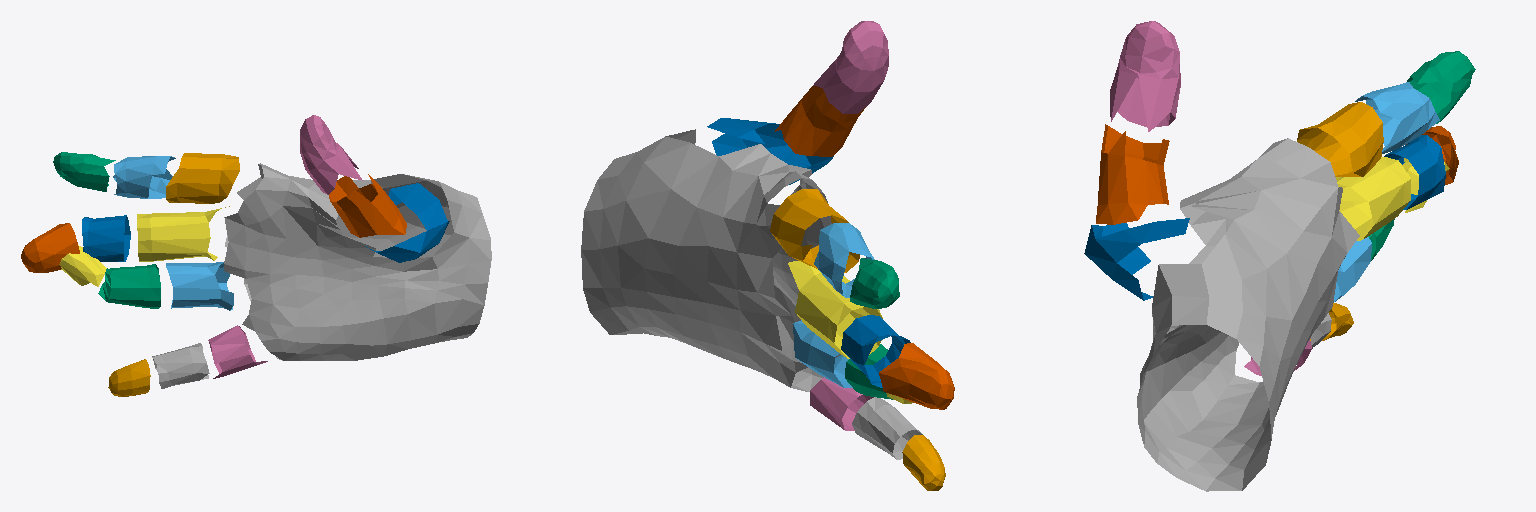
robot.urdf — mano_hand:
<robot name="mano_hand">
  <link name="root">
    <mass value="0.01"/>
    <inertial>
      <origin xyz="0 0 0" rpy="0 0 0"/>
      <mass value="0.01"/>
      <inertia ixx="1E-06" ixy="0" ixz="0" iyy="1E-06" iyz="0" izz="1E-06"/>
    </inertial>
  </link>
  <joint name="R_forearm_tx_link_joint" type="prismatic">
    <parent link="R_forearm_tx_link"/>
    <child link="R_forearm_ty_link"/>
    <axis xyz="1 0 0"/>
    <limit lower="-2.0" upper="2.0" effort="100" velocity="5"/>
  </joint>
  <link name="R_forearm_tx_link">
    <mass value="0.01"/>
  </link>
  <joint name="R_forearm_ty_link_joint" type="prismatic">
    <parent link="R_forearm_ty_link"/>
    <child link="R_forearm_tz_link"/>
    <axis xyz="0 1 0"/>
    <limit lower="-2.0" upper="2.0" effort="100" velocity="5"/>
  </joint>
  <link name="R_forearm_ty_link">
    <mass value="0.01"/>
  </link>
  <joint name="R_forearm_tz_link_joint" type="prismatic">
    <parent link="R_forearm_tz_link"/>
    <child link="R_forearm_roll_link"/>
    <axis xyz="0 0 1"/>
    <limit lower="-2.0" upper="2.0" effort="100" velocity="5"/>
  </joint>
  <link name="R_forearm_tz_link">
    <mass value="0.01"/>
  </link>
  <joint name="R_forearm_roll_link_joint" type="revolute">
    <parent link="R_forearm_roll_link"/>
    <child link="R_forearm_pitch_link"/>
    <axis xyz="0 0 1"/>
    <limit lower="-6.2" upper="6.2" effort="100" velocity="5"/>
  </joint>
  <link name="R_forearm_roll_link">
    <mass value="0.01"/>
  </link>
  <joint name="R_forearm_pitch_link_joint" type="revolute">
    <parent link="R_forearm_pitch_link"/>
    <child link="R_forearm_yaw_link"/>
    <axis xyz="1 0 0"/>
    <limit lower="-6.2" upper="6.2" effort="100" velocity="5"/>
  </joint>
  <link name="R_forearm_pitch_link">
    <mass value="0.01"/>
  </link>
  <joint name="R_forearm_yaw_link_joint" type="revolute">
    <parent link="R_forearm_yaw_link"/>
    <child link="hand"/>
    <axis xyz="0 -1 0"/>
    <limit lower="-6.2" upper="6.2" effort="100" velocity="5"/>
  </joint>
  <link name="R_forearm_yaw_link">
    <mass value="0.01"/>
  </link>
  <link name="hand">
    <inertial>
      <origin xyz="0 0 0" rpy="0 0 0"/>
      <mass value="0.01"/>
      <inertia ixx="1e-06" ixy="0" ixz="0" iyy="1e-06" iyz="0" izz="1e-06"/>
    </inertial>
    <visual>
      <origin xyz="0 0 0" rpy="0 0 0"/>
      <geometry>
        <mesh filename="meshes\hand.stl"/>
      </geometry>
    </visual>
    <collision>
      <origin xyz="0 0 0" rpy="0 0 0"/>
      <geometry>
        <mesh filename="meshes\hand.stl"/>
      </geometry>
    </collision>
  </link>
  <link name="link_joint_1">
    <inertial>
      <origin xyz="0 0 0" rpy="0 0 0"/>
      <mass value="0.01"/>
      <inertia ixx="1e-06" ixy="0" ixz="0" iyy="1e-06" iyz="0" izz="1e-06"/>
    </inertial>
    <visual>
      <origin xyz="0 0 0" rpy="0 0 0"/>
      <geometry>
        <mesh filename="meshes\link_joint_1.stl"/>
      </geometry>
    </visual>
    <collision>
      <origin xyz="0 0 0" rpy="0 0 0"/>
      <geometry>
        <mesh filename="meshes\link_joint_1.stl"/>
      </geometry>
    </collision>
  </link>
  <link name="link_joint_2">
    <inertial>
      <origin xyz="0 0 0" rpy="0 0 0"/>
      <mass value="0.01"/>
      <inertia ixx="1e-06" ixy="0" ixz="0" iyy="1e-06" iyz="0" izz="1e-06"/>
    </inertial>
    <visual>
      <origin xyz="0 0 0" rpy="0 0 0"/>
      <geometry>
        <mesh filename="meshes\link_joint_2.stl"/>
      </geometry>
    </visual>
    <collision>
      <origin xyz="0 0 0" rpy="0 0 0"/>
      <geometry>
        <mesh filename="meshes\link_joint_2.stl"/>
      </geometry>
    </collision>
  </link>
  <link name="link_joint_3">
    <inertial>
      <origin xyz="0 0 0" rpy="0 0 0"/>
      <mass value="0.01"/>
      <inertia ixx="1e-06" ixy="0" ixz="0" iyy="1e-06" iyz="0" izz="1e-06"/>
    </inertial>
    <visual>
      <origin xyz="0 0 0" rpy="0 0 0"/>
      <geometry>
        <mesh filename="meshes\link_joint_3.stl"/>
      </geometry>
    </visual>
    <collision>
      <origin xyz="0 0 0" rpy="0 0 0"/>
      <geometry>
        <mesh filename="meshes\link_joint_3.stl"/>
      </geometry>
    </collision>
  </link>
  <link name="link_joint_4">
    <inertial>
      <origin xyz="0 0 0" rpy="0 0 0"/>
      <mass value="0.01"/>
      <inertia ixx="1e-06" ixy="0" ixz="0" iyy="1e-06" iyz="0" izz="1e-06"/>
    </inertial>
    <visual>
      <origin xyz="0 0 0" rpy="0 0 0"/>
      <geometry>
        <mesh filename="meshes\link_joint_4.stl"/>
      </geometry>
    </visual>
    <collision>
      <origin xyz="0 0 0" rpy="0 0 0"/>
      <geometry>
        <mesh filename="meshes\link_joint_4.stl"/>
      </geometry>
    </collision>
  </link>
  <link name="link_joint_5">
    <inertial>
      <origin xyz="0 0 0" rpy="0 0 0"/>
      <mass value="0.01"/>
      <inertia ixx="1e-06" ixy="0" ixz="0" iyy="1e-06" iyz="0" izz="1e-06"/>
    </inertial>
    <visual>
      <origin xyz="0 0 0" rpy="0 0 0"/>
      <geometry>
        <mesh filename="meshes\link_joint_5.stl"/>
      </geometry>
    </visual>
    <collision>
      <origin xyz="0 0 0" rpy="0 0 0"/>
      <geometry>
        <mesh filename="meshes\link_joint_5.stl"/>
      </geometry>
    </collision>
  </link>
  <link name="link_joint_6">
    <inertial>
      <origin xyz="0 0 0" rpy="0 0 0"/>
      <mass value="0.01"/>
      <inertia ixx="1e-06" ixy="0" ixz="0" iyy="1e-06" iyz="0" izz="1e-06"/>
    </inertial>
    <visual>
      <origin xyz="0 0 0" rpy="0 0 0"/>
      <geometry>
        <mesh filename="meshes\link_joint_6.stl"/>
      </geometry>
    </visual>
    <collision>
      <origin xyz="0 0 0" rpy="0 0 0"/>
      <geometry>
        <mesh filename="meshes\link_joint_6.stl"/>
      </geometry>
    </collision>
  </link>
  <link name="link_joint_7">
    <inertial>
      <origin xyz="0 0 0" rpy="0 0 0"/>
      <mass value="0.01"/>
      <inertia ixx="1e-06" ixy="0" ixz="0" iyy="1e-06" iyz="0" izz="1e-06"/>
    </inertial>
    <visual>
      <origin xyz="0 0 0" rpy="0 0 0"/>
      <geometry>
        <mesh filename="meshes\link_joint_7.stl"/>
      </geometry>
    </visual>
    <collision>
      <origin xyz="0 0 0" rpy="0 0 0"/>
      <geometry>
        <mesh filename="meshes\link_joint_7.stl"/>
      </geometry>
    </collision>
  </link>
  <link name="link_joint_8">
    <inertial>
      <origin xyz="0 0 0" rpy="0 0 0"/>
      <mass value="0.01"/>
      <inertia ixx="1e-06" ixy="0" ixz="0" iyy="1e-06" iyz="0" izz="1e-06"/>
    </inertial>
    <visual>
      <origin xyz="0 0 0" rpy="0 0 0"/>
      <geometry>
        <mesh filename="meshes\link_joint_8.stl"/>
      </geometry>
    </visual>
    <collision>
      <origin xyz="0 0 0" rpy="0 0 0"/>
      <geometry>
        <mesh filename="meshes\link_joint_8.stl"/>
      </geometry>
    </collision>
  </link>
  <link name="link_joint_9">
    <inertial>
      <origin xyz="0 0 0" rpy="0 0 0"/>
      <mass value="0.01"/>
      <inertia ixx="1e-06" ixy="0" ixz="0" iyy="1e-06" iyz="0" izz="1e-06"/>
    </inertial>
    <visual>
      <origin xyz="0 0 0" rpy="0 0 0"/>
      <geometry>
        <mesh filename="meshes\link_joint_9.stl"/>
      </geometry>
    </visual>
    <collision>
      <origin xyz="0 0 0" rpy="0 0 0"/>
      <geometry>
        <mesh filename="meshes\link_joint_9.stl"/>
      </geometry>
    </collision>
  </link>
  <link name="link_joint_10">
    <inertial>
      <origin xyz="0 0 0" rpy="0 0 0"/>
      <mass value="0.01"/>
      <inertia ixx="1e-06" ixy="0" ixz="0" iyy="1e-06" iyz="0" izz="1e-06"/>
    </inertial>
    <visual>
      <origin xyz="0 0 0" rpy="0 0 0"/>
      <geometry>
        <mesh filename="meshes\link_joint_10.stl"/>
      </geometry>
    </visual>
    <collision>
      <origin xyz="0 0 0" rpy="0 0 0"/>
      <geometry>
        <mesh filename="meshes\link_joint_10.stl"/>
      </geometry>
    </collision>
  </link>
  <link name="link_joint_11">
    <inertial>
      <origin xyz="0 0 0" rpy="0 0 0"/>
      <mass value="0.01"/>
      <inertia ixx="1e-06" ixy="0" ixz="0" iyy="1e-06" iyz="0" izz="1e-06"/>
    </inertial>
    <visual>
      <origin xyz="0 0 0" rpy="0 0 0"/>
      <geometry>
        <mesh filename="meshes\link_joint_11.stl"/>
      </geometry>
    </visual>
    <collision>
      <origin xyz="0 0 0" rpy="0 0 0"/>
      <geometry>
        <mesh filename="meshes\link_joint_11.stl"/>
      </geometry>
    </collision>
  </link>
  <link name="link_joint_12">
    <inertial>
      <origin xyz="0 0 0" rpy="0 0 0"/>
      <mass value="0.01"/>
      <inertia ixx="1e-06" ixy="0" ixz="0" iyy="1e-06" iyz="0" izz="1e-06"/>
    </inertial>
    <visual>
      <origin xyz="0 0 0" rpy="0 0 0"/>
      <geometry>
        <mesh filename="meshes\link_joint_12.stl"/>
      </geometry>
    </visual>
    <collision>
      <origin xyz="0 0 0" rpy="0 0 0"/>
      <geometry>
        <mesh filename="meshes\link_joint_12.stl"/>
      </geometry>
    </collision>
  </link>
  <link name="link_joint_13">
    <inertial>
      <origin xyz="0 0 0" rpy="0 0 0"/>
      <mass value="0.01"/>
      <inertia ixx="1e-06" ixy="0" ixz="0" iyy="1e-06" iyz="0" izz="1e-06"/>
    </inertial>
    <visual>
      <origin xyz="0 0 0" rpy="0 0 0"/>
      <geometry>
        <mesh filename="meshes\link_joint_13.stl"/>
      </geometry>
    </visual>
    <collision>
      <origin xyz="0 0 0" rpy="0 0 0"/>
      <geometry>
        <mesh filename="meshes\link_joint_13.stl"/>
      </geometry>
    </collision>
  </link>
  <link name="link_joint_14">
    <inertial>
      <origin xyz="0 0 0" rpy="0 0 0"/>
      <mass value="0.01"/>
      <inertia ixx="1e-06" ixy="0" ixz="0" iyy="1e-06" iyz="0" izz="1e-06"/>
    </inertial>
    <visual>
      <origin xyz="0 0 0" rpy="0 0 0"/>
      <geometry>
        <mesh filename="meshes\link_joint_14.stl"/>
      </geometry>
    </visual>
    <collision>
      <origin xyz="0 0 0" rpy="0 0 0"/>
      <geometry>
        <mesh filename="meshes\link_joint_14.stl"/>
      </geometry>
    </collision>
  </link>
  <link name="link_joint_15">
    <inertial>
      <origin xyz="0 0 0" rpy="0 0 0"/>
      <mass value="0.01"/>
      <inertia ixx="1e-06" ixy="0" ixz="0" iyy="1e-06" iyz="0" izz="1e-06"/>
    </inertial>
    <visual>
      <origin xyz="0 0 0" rpy="0 0 0"/>
      <geometry>
        <mesh filename="meshes\link_joint_15.stl"/>
      </geometry>
    </visual>
    <collision>
      <origin xyz="0 0 0" rpy="0 0 0"/>
      <geometry>
        <mesh filename="meshes\link_joint_15.stl"/>
      </geometry>
    </collision>
  </link>
  <joint name="joint_hand_to_link_joint_0" type="fixed">
    <parent link="root"/>
    <child link="R_forearm_tx_link"/>
    <origin xyz="0 0 0" rpy="0 0 0"/>
    <axis xyz="0 0 1"/>
  </joint>
  <joint name="joint_hand_to_link_joint_1" type="revolute">
    <parent link="hand"/>
    <child link="link_joint_1"/>
    <origin xyz="0 0 0" rpy="0 0 0"/>
    <axis xyz="0 0 1"/>
    <limit lower="-0.3" upper="0.3" effort="50" velocity="0.1"/>
  </joint>
  <joint name="joint_hand_to_link_joint_2" type="revolute">
    <parent link="hand"/>
    <child link="link_joint_2"/>
    <origin xyz="0 0 0" rpy="0 0 0"/>
    <axis xyz="0 0 1"/>
    <limit lower="-0.3" upper="0.3" effort="50" velocity="0.1"/>
  </joint>
  <joint name="joint_hand_to_link_joint_3" type="revolute">
    <parent link="hand"/>
    <child link="link_joint_3"/>
    <origin xyz="0 0 0" rpy="0 0 0"/>
    <axis xyz="0 0 1"/>
    <limit lower="-0.3" upper="0.3" effort="50" velocity="0.1"/>
  </joint>
  <joint name="joint_hand_to_link_joint_4" type="revolute">
    <parent link="hand"/>
    <child link="link_joint_4"/>
    <origin xyz="0 0 0" rpy="0 0 0"/>
    <axis xyz="0 0 1"/>
    <limit lower="-0.3" upper="0.3" effort="50" velocity="0.1"/>
  </joint>
  <joint name="joint_hand_to_link_joint_5" type="revolute">
    <parent link="hand"/>
    <child link="link_joint_5"/>
    <origin xyz="0 0 0" rpy="0 0 0"/>
    <axis xyz="0 0 1"/>
    <limit lower="-0.3" upper="0.3" effort="50" velocity="0.1"/>
  </joint>
  <joint name="joint_hand_to_link_joint_6" type="revolute">
    <parent link="hand"/>
    <child link="link_joint_6"/>
    <origin xyz="0 0 0" rpy="0 0 0"/>
    <axis xyz="0 0 1"/>
    <limit lower="-0.3" upper="0.3" effort="50" velocity="0.1"/>
  </joint>
  <joint name="joint_hand_to_link_joint_7" type="revolute">
    <parent link="hand"/>
    <child link="link_joint_7"/>
    <origin xyz="0 0 0" rpy="0 0 0"/>
    <axis xyz="0 0 1"/>
    <limit lower="-0.3" upper="0.3" effort="50" velocity="0.1"/>
  </joint>
  <joint name="joint_hand_to_link_joint_8" type="revolute">
    <parent link="hand"/>
    <child link="link_joint_8"/>
    <origin xyz="0 0 0" rpy="0 0 0"/>
    <axis xyz="0 0 1"/>
    <limit lower="-0.3" upper="0.3" effort="50" velocity="0.1"/>
  </joint>
  <joint name="joint_hand_to_link_joint_9" type="revolute">
    <parent link="hand"/>
    <child link="link_joint_9"/>
    <origin xyz="0 0 0" rpy="0 0 0"/>
    <axis xyz="0 0 1"/>
    <limit lower="-0.3" upper="0.3" effort="50" velocity="0.1"/>
  </joint>
  <joint name="joint_hand_to_link_joint_10" type="revolute">
    <parent link="hand"/>
    <child link="link_joint_10"/>
    <origin xyz="0 0 0" rpy="0 0 0"/>
    <axis xyz="0 0 1"/>
    <limit lower="-0.3" upper="0.3" effort="50" velocity="0.1"/>
  </joint>
  <joint name="joint_hand_to_link_joint_11" type="revolute">
    <parent link="hand"/>
    <child link="link_joint_11"/>
    <origin xyz="0 0 0" rpy="0 0 0"/>
    <axis xyz="0 0 1"/>
    <limit lower="-0.3" upper="0.3" effort="50" velocity="0.1"/>
  </joint>
  <joint name="joint_hand_to_link_joint_12" type="revolute">
    <parent link="hand"/>
    <child link="link_joint_12"/>
    <origin xyz="0 0 0" rpy="0 0 0"/>
    <axis xyz="0 0 1"/>
    <limit lower="-0.3" upper="0.3" effort="50" velocity="0.1"/>
  </joint>
  <joint name="joint_hand_to_link_joint_13" type="revolute">
    <parent link="hand"/>
    <child link="link_joint_13"/>
    <origin xyz="0 0 0" rpy="0 0 0"/>
    <axis xyz="0 0 1"/>
    <limit lower="-0.3" upper="0.3" effort="50" velocity="0.1"/>
  </joint>
  <joint name="joint_hand_to_link_joint_14" type="revolute">
    <parent link="hand"/>
    <child link="link_joint_14"/>
    <origin xyz="0 0 0" rpy="0 0 0"/>
    <axis xyz="0 0 1"/>
    <limit lower="-0.3" upper="0.3" effort="50" velocity="0.1"/>
  </joint>
  <joint name="joint_hand_to_link_joint_15" type="revolute">
    <parent link="hand"/>
    <child link="link_joint_15"/>
    <origin xyz="0 0 0" rpy="0 0 0"/>
    <axis xyz="0 0 1"/>
    <limit lower="-0.3" upper="0.3" effort="50" velocity="0.1"/>
  </joint>
</robot>

--- Facts derived from the render (not from the file) ---
Views: 3 orthographic renders of the robot side by side, from view 1: azimuth 30°, elevation 25°; view 2: azimuth 150°, elevation 25°; view 3: azimuth 270°, elevation 25°.
Model mano_hand with 23 links and 22 joints (18 revolute, 3 prismatic, 1 fixed), rooted at root, posed all joints at 0.
Visible links, largest first — view 1: hand, link_joint_4, link_joint_14, link_joint_1, link_joint_15, link_joint_10, link_joint_13, link_joint_11, link_joint_2, link_joint_5, link_joint_6, link_joint_8 (+4 smaller); view 2: hand, link_joint_15, link_joint_4, link_joint_14, link_joint_6, link_joint_1, link_joint_13, link_joint_8, link_joint_5, link_joint_2, link_joint_3, link_joint_10 (+3 smaller); view 3: hand, link_joint_15, link_joint_14, link_joint_1, link_joint_4, link_joint_13, link_joint_2, link_joint_3, link_joint_5, link_joint_10, link_joint_6, link_joint_9.
Link boxes in pixels (left/top/right/bottom): hand: left=224, top=163, right=491, bottom=360; link_joint_4: left=137, top=206, right=229, bottom=261; link_joint_14: left=329, top=174, right=406, bottom=237; link_joint_1: left=166, top=153, right=239, bottom=203; link_joint_15: left=300, top=115, right=362, bottom=194; link_joint_10: left=166, top=262, right=233, bottom=310; link_joint_13: left=365, top=183, right=449, bottom=262; link_joint_11: left=98, top=264, right=160, bottom=308; link_joint_2: left=113, top=156, right=175, bottom=198; link_joint_5: left=82, top=215, right=130, bottom=261; link_joint_6: left=21, top=223, right=79, bottom=272; link_joint_8: left=152, top=343, right=209, bottom=388; hand: left=581, top=129, right=840, bottom=391; link_joint_15: left=813, top=21, right=888, bottom=113; link_joint_4: left=788, top=261, right=882, bottom=358; link_joint_14: left=775, top=86, right=865, bottom=156; link_joint_6: left=879, top=343, right=954, bottom=409; link_joint_1: left=770, top=189, right=859, bottom=272; link_joint_13: left=707, top=118, right=833, bottom=184; link_joint_8: left=852, top=397, right=922, bottom=459; link_joint_5: left=841, top=315, right=910, bottom=387; link_joint_2: left=814, top=223, right=874, bottom=297; link_joint_3: left=850, top=258, right=899, bottom=308; link_joint_10: left=793, top=320, right=852, bottom=387; hand: left=1137, top=138, right=1359, bottom=491; link_joint_15: left=1110, top=21, right=1180, bottom=131; link_joint_14: left=1096, top=124, right=1169, bottom=224; link_joint_1: left=1297, top=102, right=1383, bottom=176; link_joint_4: left=1336, top=157, right=1410, bottom=240; link_joint_13: left=1084, top=218, right=1189, bottom=300; link_joint_2: left=1355, top=82, right=1439, bottom=153; link_joint_3: left=1407, top=51, right=1475, bottom=123; link_joint_5: left=1384, top=135, right=1445, bottom=209; link_joint_10: left=1333, top=237, right=1371, bottom=302; link_joint_6: left=1406, top=126, right=1458, bottom=184; link_joint_9: left=1310, top=303, right=1353, bottom=340.
Bounding box of the posed robot: 0.1734 × 0.1211 × 0.1347 m (x, y, z).
16 mesh visuals loaded from 16 distinct referenced files (16 binary STL).
